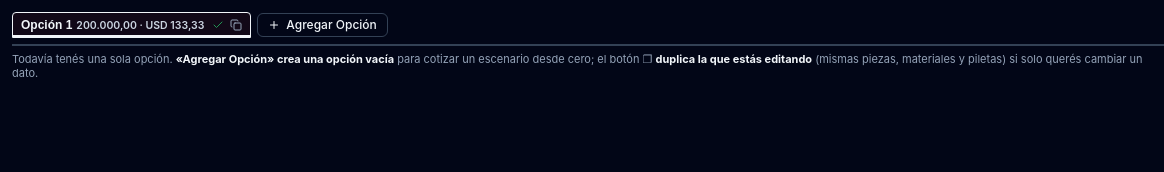
Test: BudgetOptionsTabs — always visible › the ❐ button of the tab keeps CLONING the option (explicit duplicate)
Expected: the text "Opción 2" is not shown
Click the button titled "Duplicar Opción 1": (236, 25) [228,17,244,33]
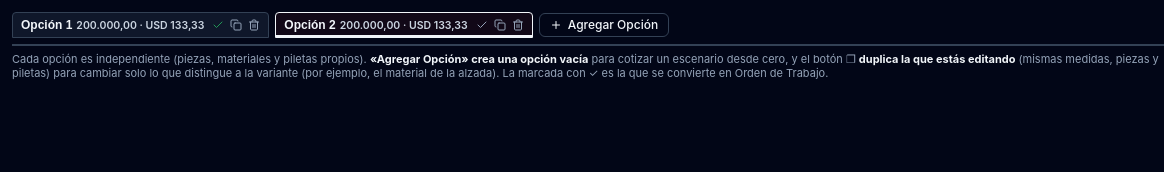
Now the button "Opción 2" is shown, box [282,18,338,32]
